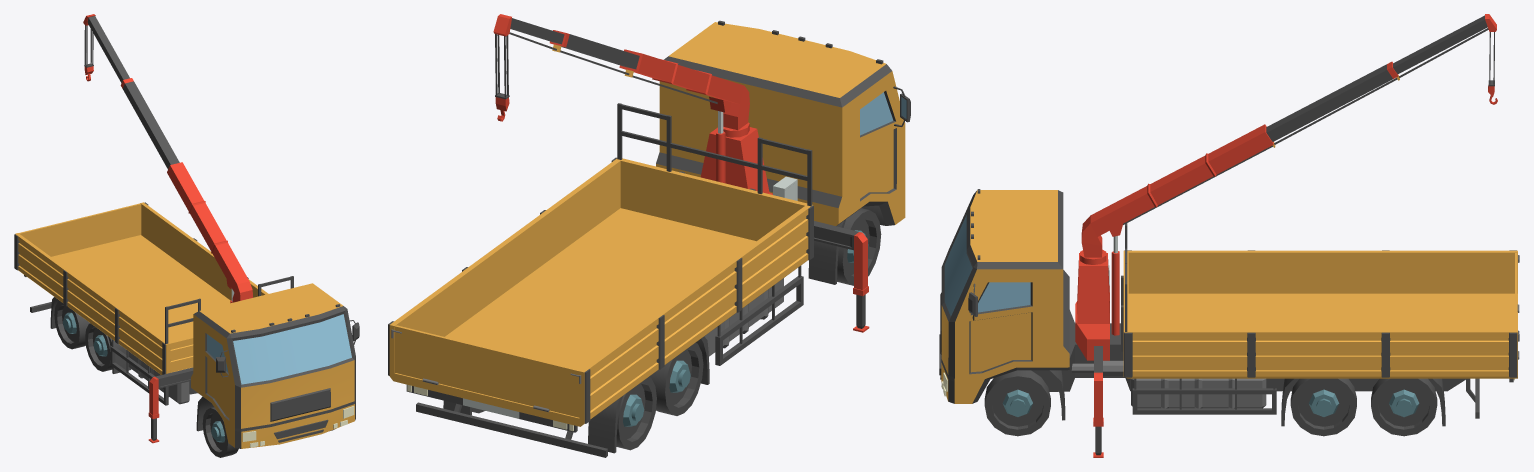
File: SM_Loader_01.fbx
3 views of the same model, side by side, from view 1: azimuth 30°, elevation 25°; view 2: azimuth 150°, elevation 25°; view 3: azimuth 270°, elevation 25° (orthographic). The views are drawn at different scales.
Parts seen in each view (by area): view 1: SM_Loader_01; view 2: SM_Loader_01; view 3: SM_Loader_01.
Part boxes in pixels (bbox=[...]): SM_Loader_01: bbox=[14, 14, 359, 457]; SM_Loader_01: bbox=[388, 14, 910, 457]; SM_Loader_01: bbox=[939, 14, 1519, 457].
Size of the model in its own units: 424 by 666 by 911.
